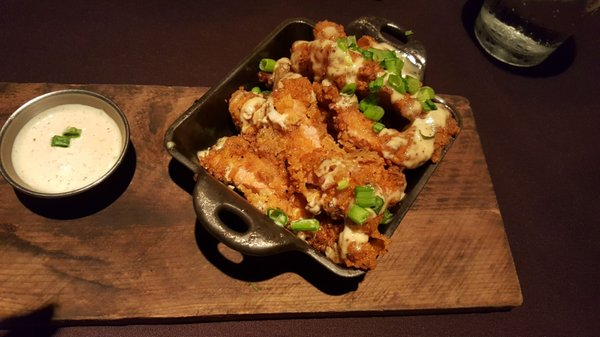sushi: (0, 87, 137, 220)
